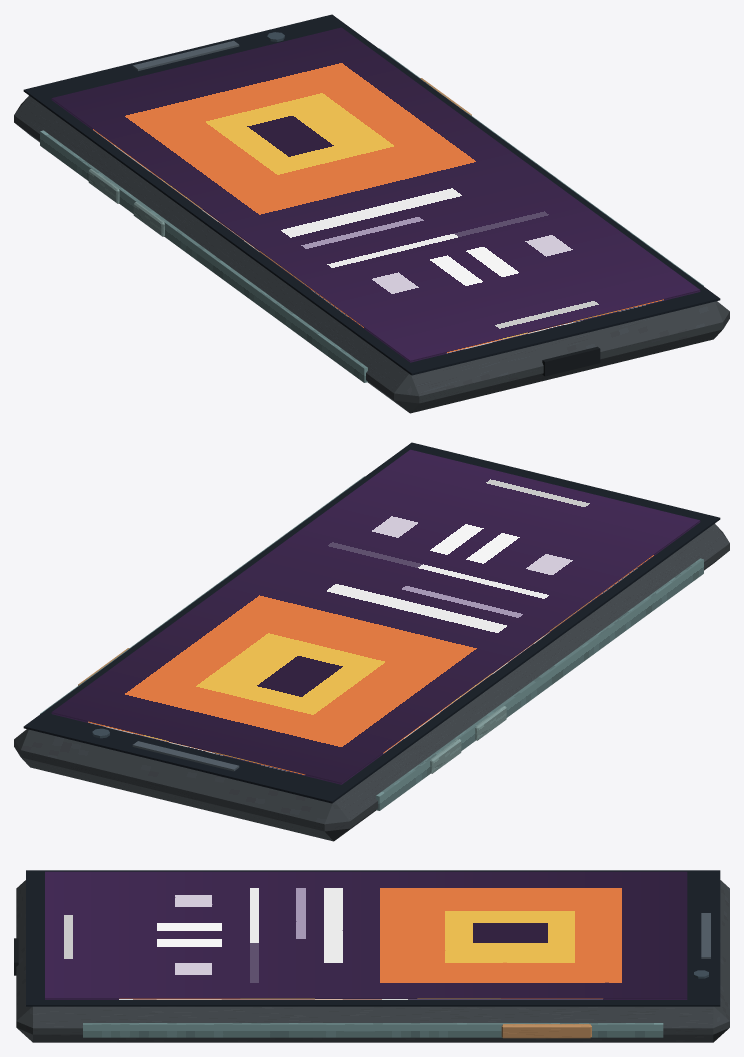
The model's file is smartphone_music.glb.
The picture shows the model from 3 angles, top to bottom: view 1: azimuth 30°, elevation 25°; view 2: azimuth 150°, elevation 25°; view 3: azimuth 270°, elevation 25°; orthographic projection. The views are drawn at different scales.
Parts seen in each view (by area): view 1: block_screen, block_graphite bumper, block_black glass border, block_brushed rail -0.0365, block_USB charging socket, block_earpiece; view 2: block_screen, block_graphite bumper, block_black glass border, block_brushed rail -0.0365, block_earpiece; view 3: block_screen, block_graphite bumper, block_black glass border, block_brushed rail 0.0365, block_power, block_earpiece.
Part boxes in pixels (x1,y1,x2,y2): block_screen: [51, 27, 700, 362]; block_graphite bumper: [14, 95, 729, 413]; block_black glass border: [23, 14, 720, 375]; block_brushed rail -0.0365: [40, 130, 367, 382]; block_USB charging socket: [542, 346, 600, 376]; block_earpiece: [132, 40, 239, 70]; block_screen: [51, 449, 700, 784]; block_graphite bumper: [14, 523, 729, 841]; block_black glass border: [23, 442, 720, 803]; block_brushed rail -0.0365: [376, 558, 703, 810]; block_earpiece: [132, 741, 239, 771]; block_screen: [45, 871, 687, 999]; block_graphite bumper: [16, 880, 729, 1042]; block_black glass border: [26, 870, 720, 1006]; block_brushed rail 0.0365: [83, 1023, 663, 1037]; block_power: [501, 1024, 591, 1038]; block_earpiece: [701, 913, 710, 958].
Size of the model in its own units: 0.075 by 0.0096 by 0.1505.
Materials: 2 (2 with a texture image).
